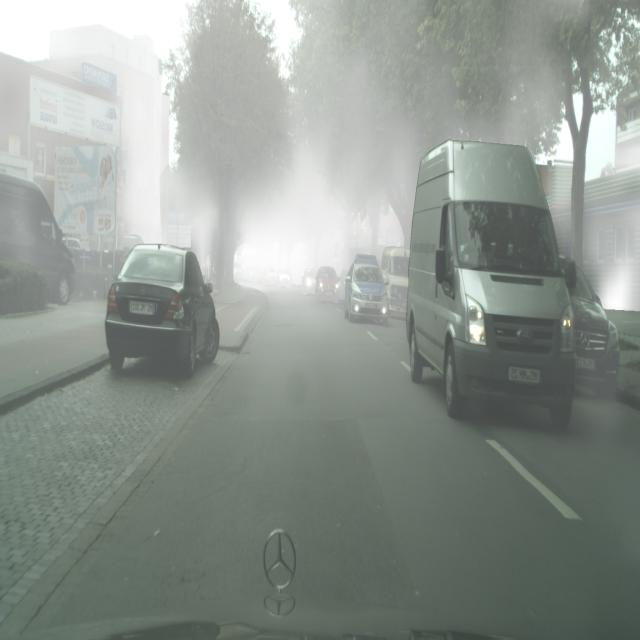bicycle: (406, 139, 577, 431), (0, 168, 76, 304), (381, 246, 411, 319)
bus: (104, 242, 221, 378), (559, 256, 620, 397), (344, 261, 390, 324), (315, 264, 341, 304), (116, 235, 144, 271), (301, 267, 318, 297), (276, 267, 292, 288), (263, 266, 277, 285)
